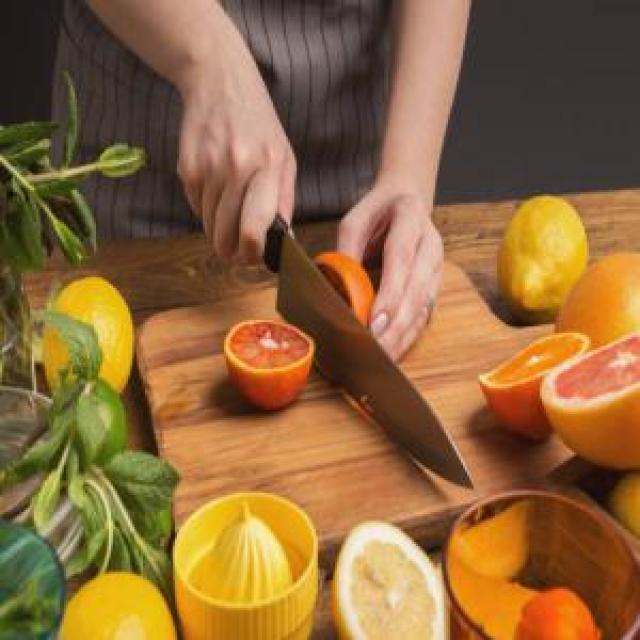knife: (226, 190, 479, 499)
